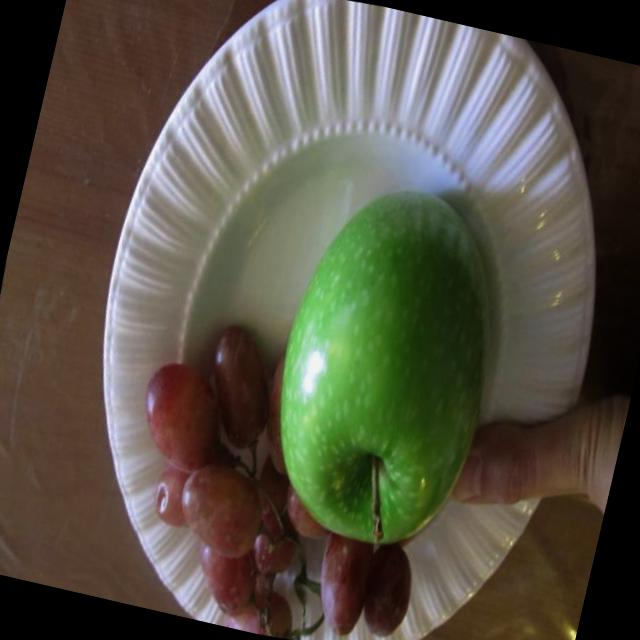Apple: (229, 154, 536, 571)
Finger: (454, 408, 560, 524)
Grapes: (90, 303, 301, 628), (185, 508, 418, 640)
